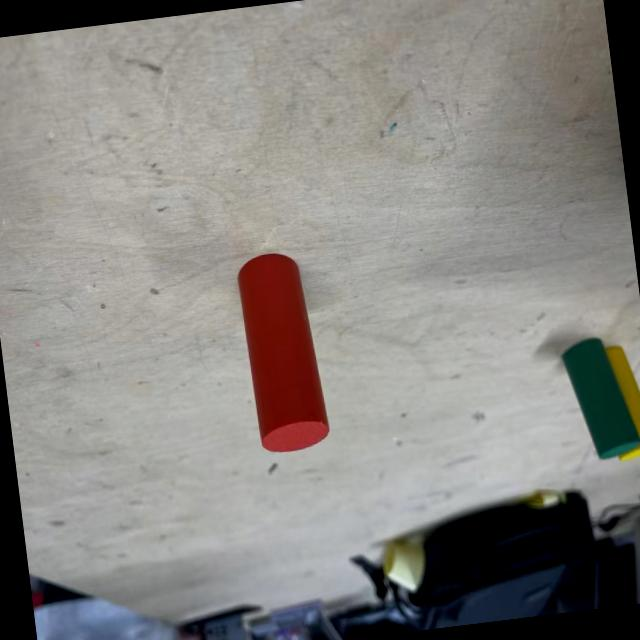red_cylinder: (234, 247, 332, 460)
